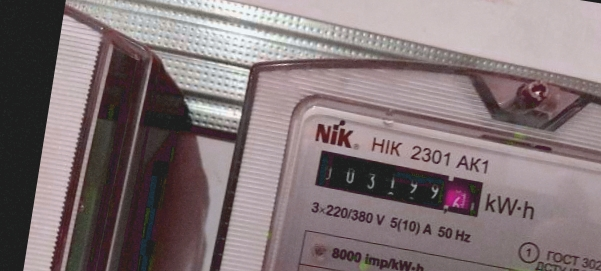0: (319, 159, 334, 181), (342, 162, 357, 184)
1: (386, 169, 398, 190)
3: (363, 169, 377, 189)
6: (450, 192, 463, 209)
9: (406, 174, 420, 195), (427, 179, 440, 199)
screen: (305, 143, 493, 225)
